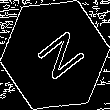N_SW: (25, 24, 85, 86)
